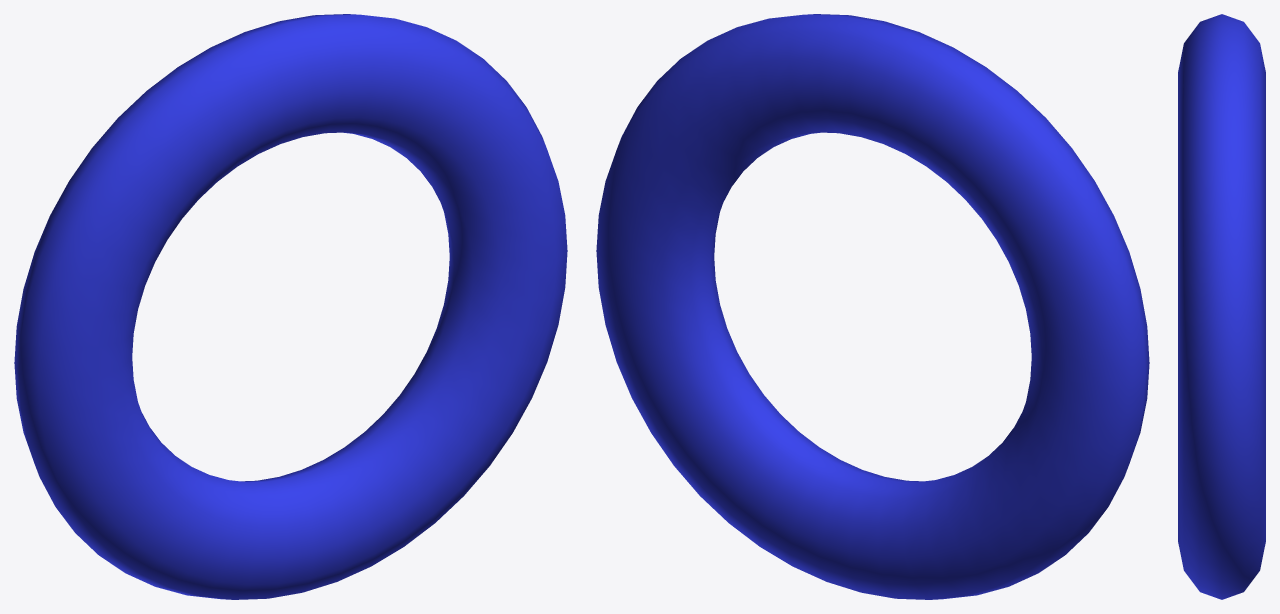
Rendered from blue_circle.glb.
The picture shows the model from 3 angles, left to right: view 1: azimuth 30°, elevation 25°; view 2: azimuth 150°, elevation 25°; view 3: azimuth 270°, elevation 25°; orthographic projection. The views are drawn at different scales.
Parts seen in each view (by area): view 1: 环体; view 2: 环体; view 3: 环体.
Boxes of the visible parts, x1=… form: 环体: x1=14, y1=14, x2=567, y2=599; 环体: x1=596, y1=14, x2=1149, y2=599; 环体: x1=1178, y1=14, x2=1265, y2=599.
Size of the model in its own units: 2 by 2 by 0.3.
